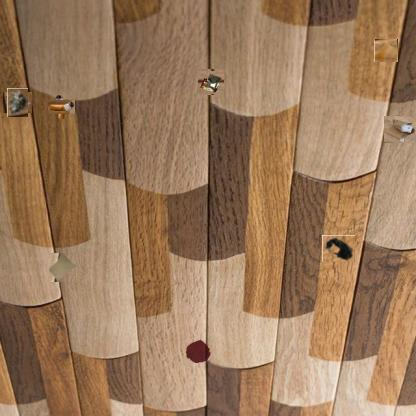dirty: (386, 113, 416, 144), (46, 254, 76, 284), (322, 235, 355, 262), (5, 90, 30, 115), (199, 70, 223, 94), (51, 96, 71, 118)
liquid: (185, 340, 211, 366), (374, 39, 398, 62)
